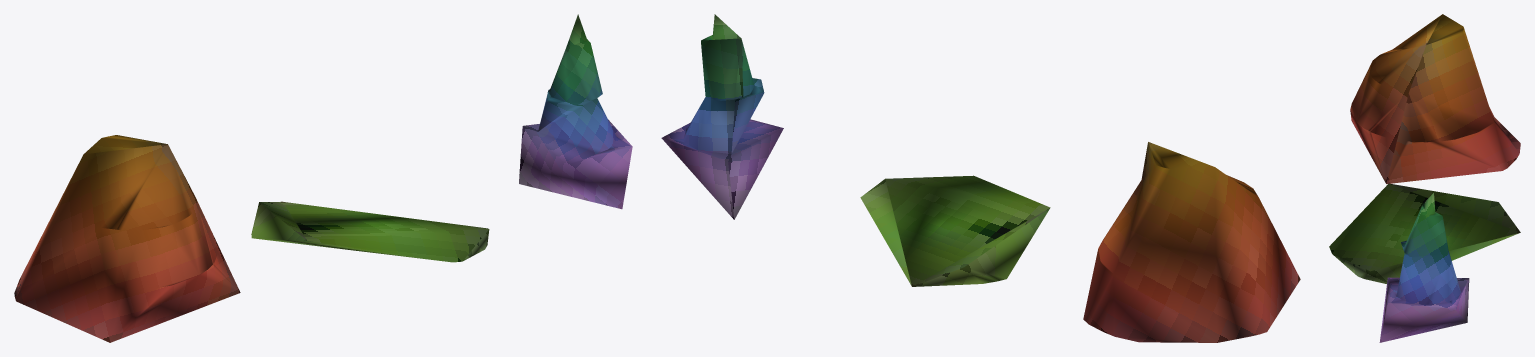
The model's file is CONE_SORTING_kg5fbARBwts-low.glb.
The picture shows the model from 3 angles, left to right: view 1: azimuth 30°, elevation 25°; view 2: azimuth 150°, elevation 25°; view 3: azimuth 270°, elevation 25°; orthographic projection. The views are drawn at different scales.
Parts seen in each view (by area): view 1: CONE_SORTING_kg5fbARBwts; view 2: CONE_SORTING_kg5fbARBwts; view 3: CONE_SORTING_kg5fbARBwts.
Part boxes in pixels (<box>): CONE_SORTING_kg5fbARBwts: <box>14,14,632,342</box>; CONE_SORTING_kg5fbARBwts: <box>661,14,1300,342</box>; CONE_SORTING_kg5fbARBwts: <box>1329,14,1520,342</box>.
Bounding box in the file's own units: 0.384 × 0.1094 × 0.1301.
1 material, 1 textured.
